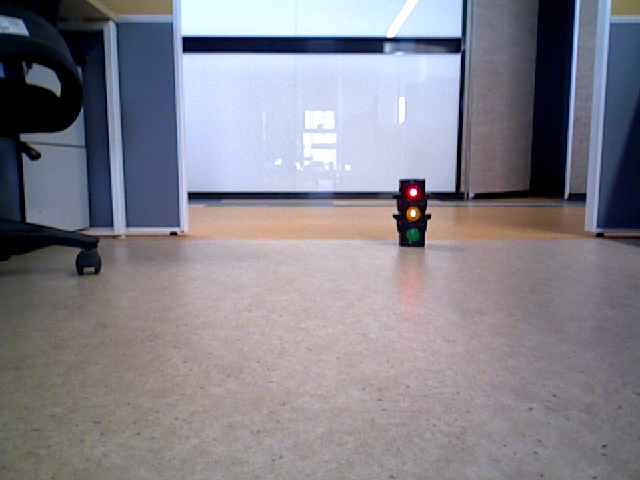red: (399, 180, 424, 246)
